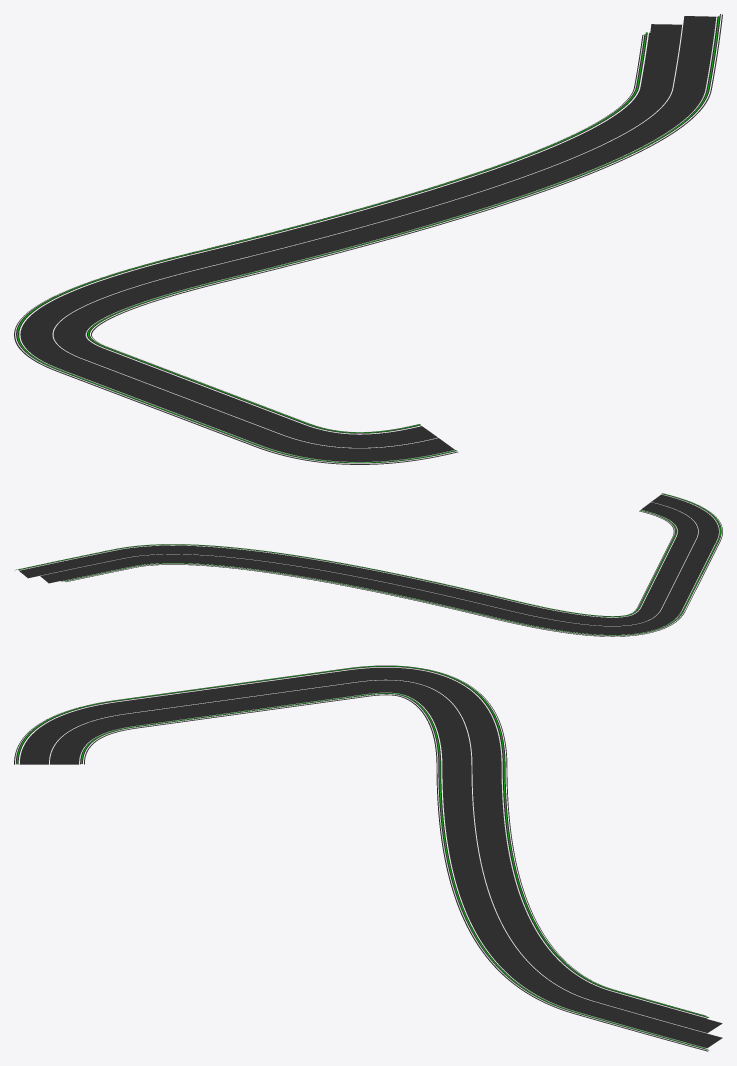
The model's file is Spa.Short.06.glb.
The picture shows the model from 3 angles, top to bottom: view 1: azimuth 30°, elevation 25°; view 2: azimuth 150°, elevation 25°; view 3: azimuth 270°, elevation 25°; orthographic projection. The views are drawn at different scales.
Visible parts, largest first — view 1: Track.006; view 2: Track.006; view 3: Track.006.
Part boxes in pixels (<box>): Track.006: <box>14,14,722,464</box>; Track.006: <box>15,493,722,636</box>; Track.006: <box>14,665,722,1051</box>.
Bounding box in the file's own units: 193 × 0.1549 × 150.
